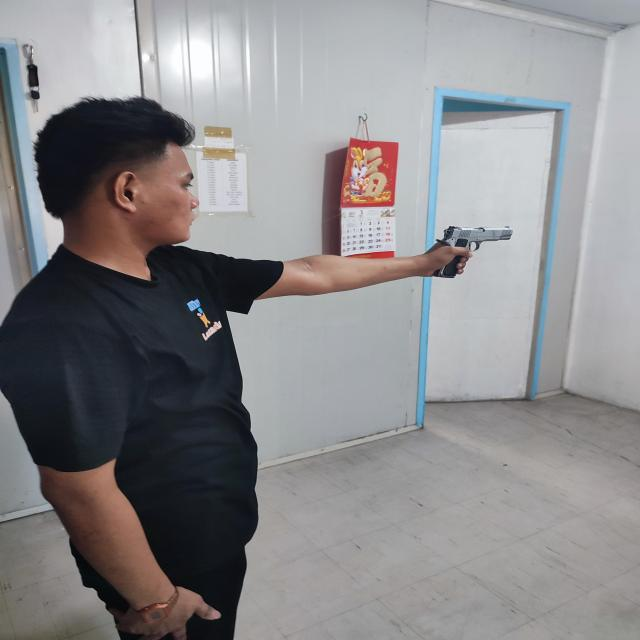pistol: (435, 226, 513, 278)
